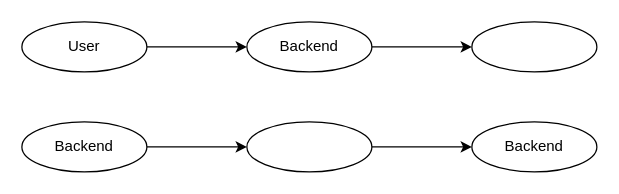
Some shapes in this 619 by 194 pixel diagram are drawn without their labels. Here are the shapes that lost their labels. From the top down, the centre of each, then its label:
the point at 534,46: Database
the point at 309,146: Payment Gateway
